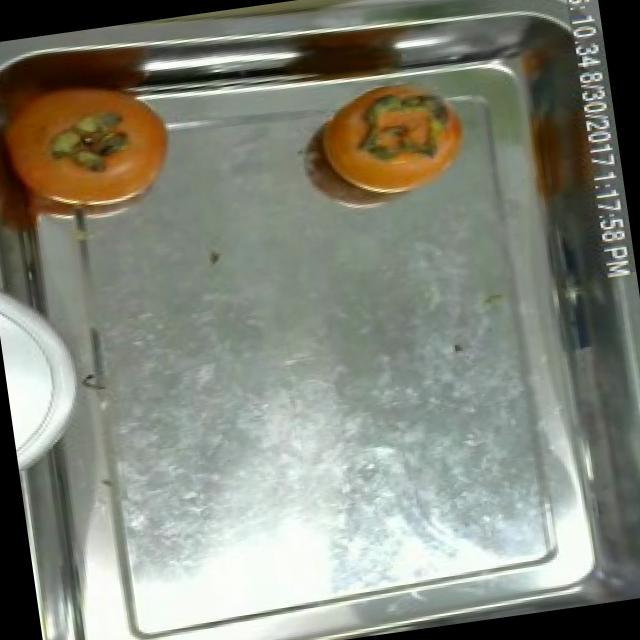Fruit: (0, 45, 201, 251), (304, 77, 485, 217)
